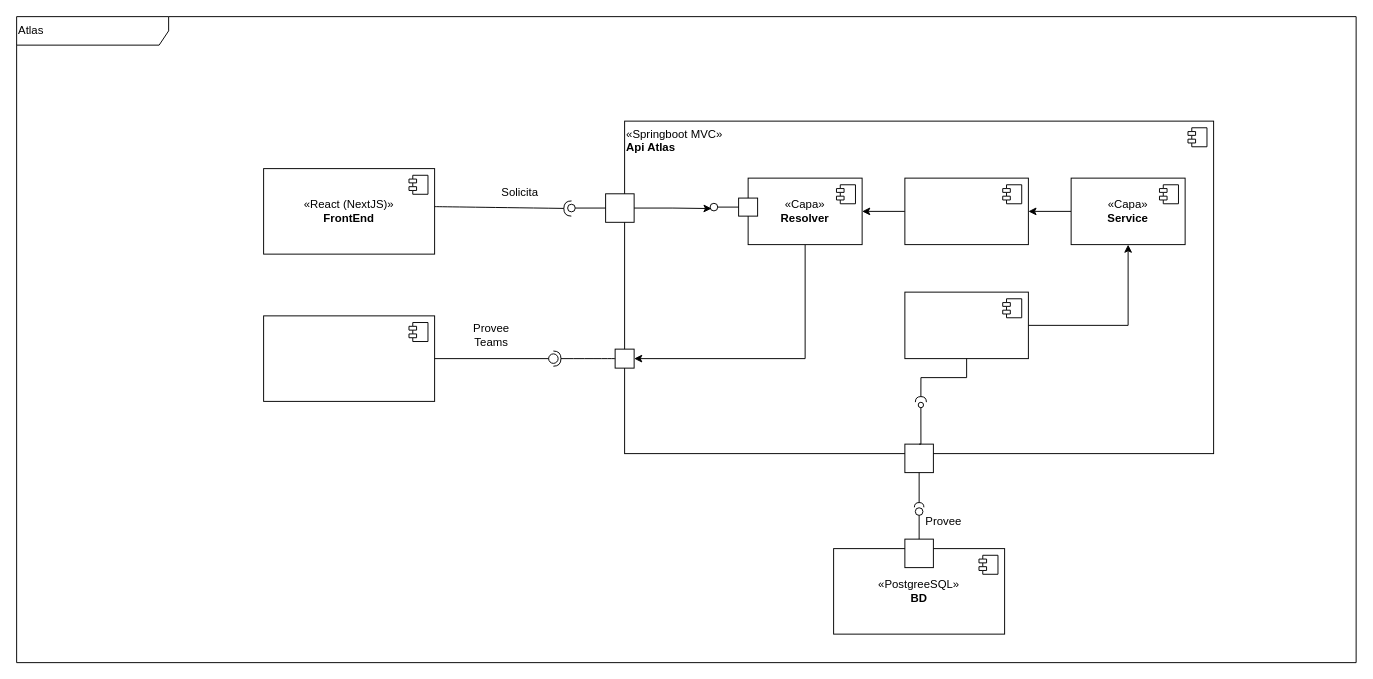
Image size: 1373x679. Some labels were removed from this diagram. Each missing label, with the centre of its shape:
"«Capa» Business" belongs at (966,211).
"«Capa» Repository" belongs at (966,325).
"«SpringBoot MVC» Api Aquiles" belongs at (349,358).
